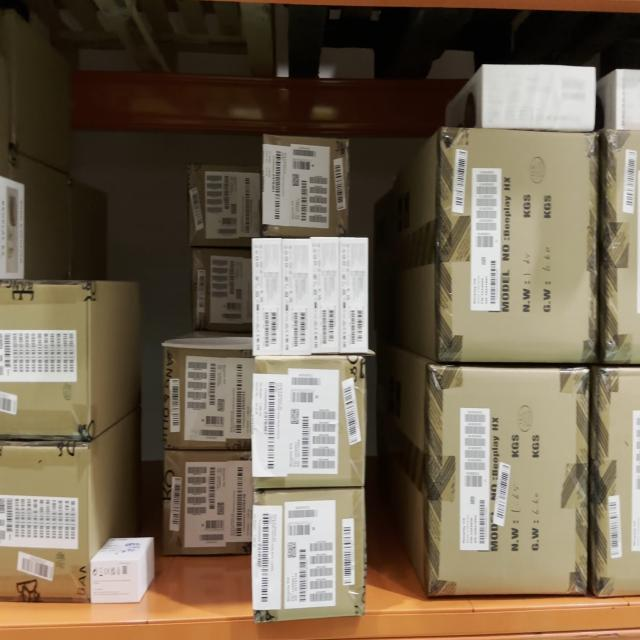box: (437, 124, 598, 360), (427, 362, 590, 592), (254, 355, 366, 489), (2, 442, 90, 602), (1, 278, 88, 438), (254, 489, 364, 612), (165, 341, 255, 452), (166, 447, 250, 554), (264, 138, 350, 237), (190, 246, 253, 332), (188, 170, 261, 243)
